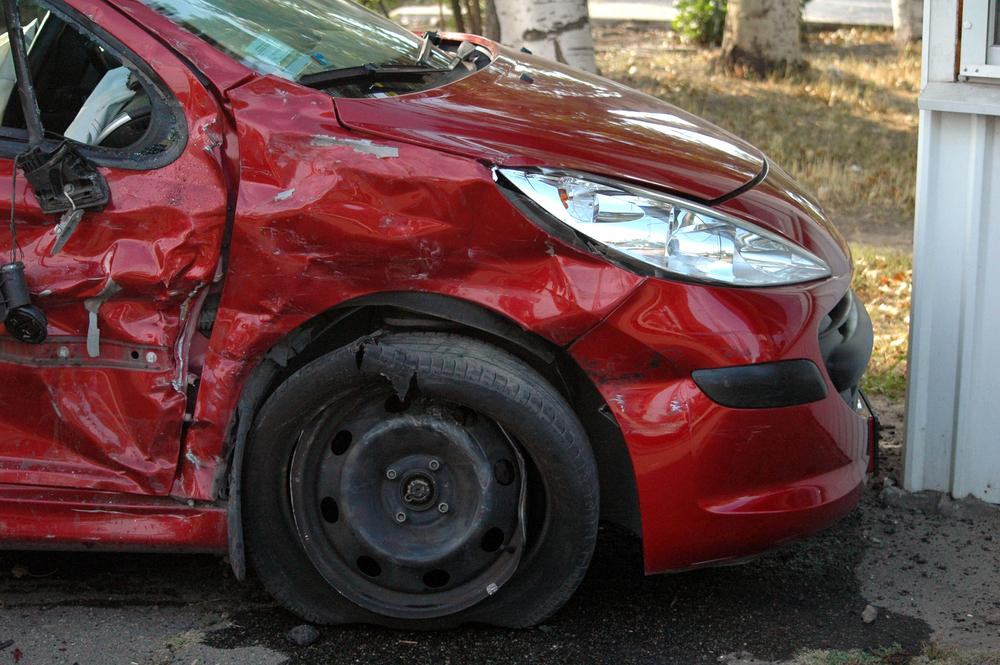dent: (193, 122, 612, 435), (42, 166, 222, 487), (598, 285, 800, 434)
tire flat: (239, 331, 599, 631)
